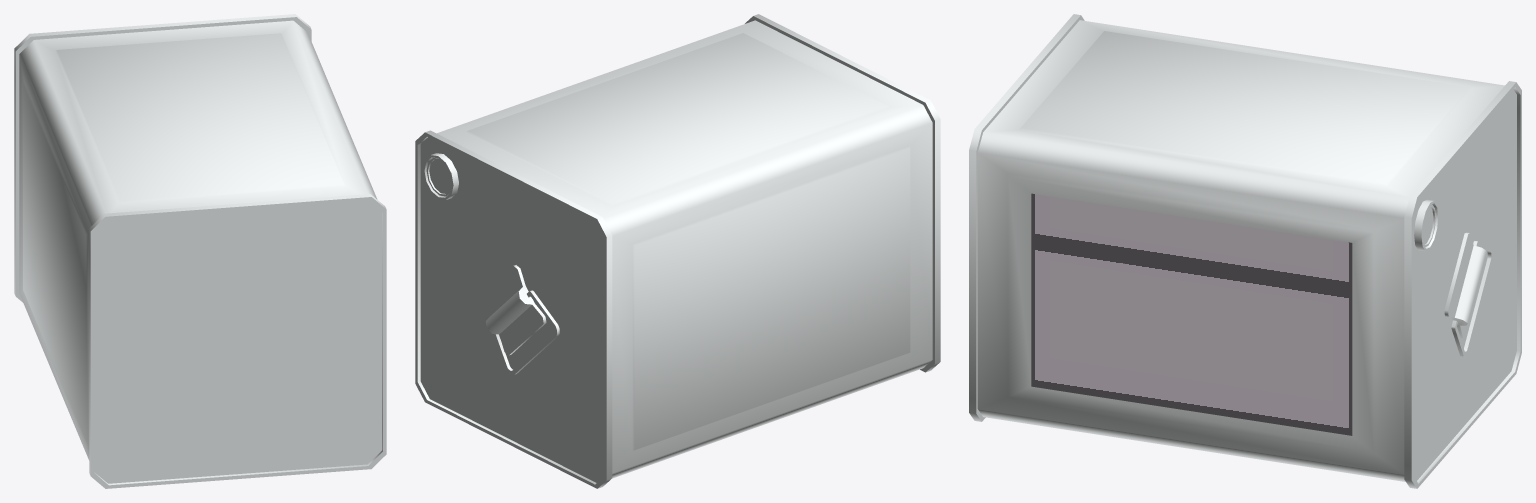
3 renders of one model, left to right at view 1: azimuth 30°, elevation 25°; view 2: azimuth 150°, elevation 25°; view 3: azimuth 270°, elevation 25°, orthographic. The views are drawn at different scales.
Visible parts, largest first — view 1: Joint_0_Object_0; view 2: Joint_0_Object_0; view 3: Joint_0_Object_0.
Boxes of the visible parts, <box> form: Joint_0_Object_0: <box>14,14,386,488</box>; Joint_0_Object_0: <box>415,14,940,488</box>; Joint_0_Object_0: <box>969,14,1521,488</box>.
Bounding box in the file's own units: 738 × 513 × 880.
